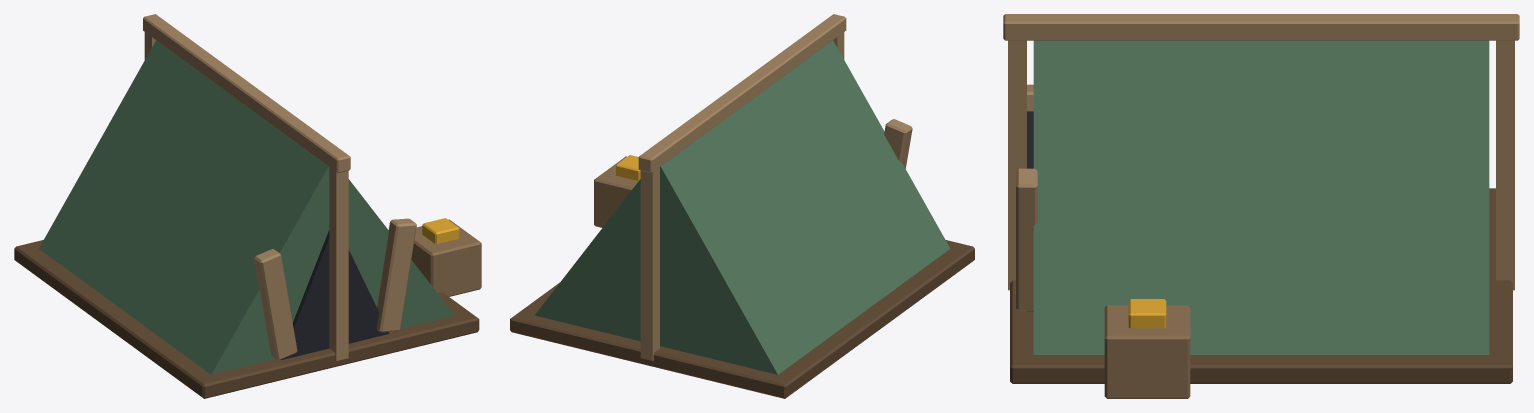
Rendered from Stylized_Landmark_CampTentGreen.fbx.
3 views of the same model, side by side, from view 1: azimuth 30°, elevation 25°; view 2: azimuth 150°, elevation 25°; view 3: azimuth 270°, elevation 25° (orthographic). The views are drawn at different scales.
Parts seen in each view (by area): view 1: Stylized_Landmark_CampTentGreen; view 2: Stylized_Landmark_CampTentGreen; view 3: Stylized_Landmark_CampTentGreen.
Boxes of the visible parts, <box> form: Stylized_Landmark_CampTentGreen: <box>14,14,481,398</box>; Stylized_Landmark_CampTentGreen: <box>510,14,974,398</box>; Stylized_Landmark_CampTentGreen: <box>1003,14,1519,398</box>.
Bounding box in the file's own units: 3.59 × 2.29 × 3.85.
